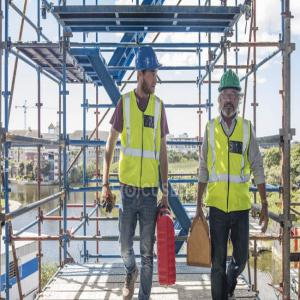blue: (135, 48, 161, 98)
